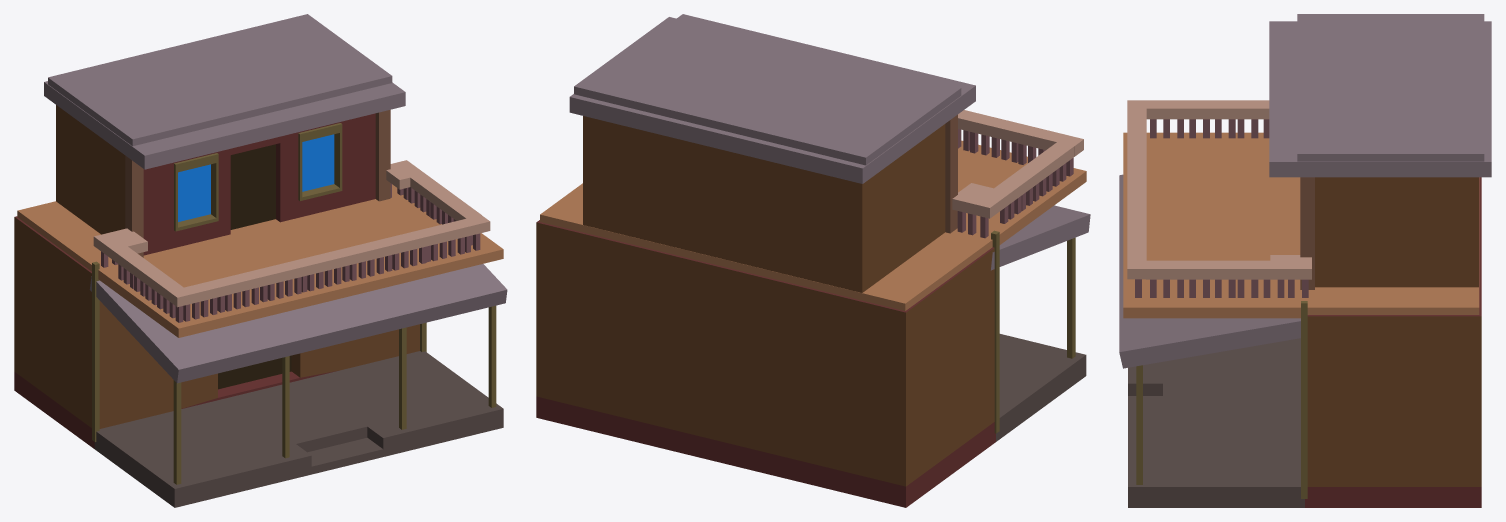
The model's file is west_home_1.glb.
The picture shows the model from 3 angles, left to right: view 1: azimuth 30°, elevation 25°; view 2: azimuth 150°, elevation 25°; view 3: azimuth 270°, elevation 25°; orthographic projection. The views are drawn at different scales.
Parts seen in each view (by area): view 1: Cube, Cube.007, Cube.010, Cube.005, Cube.096, Cube.006, Cube.025, Cube.009, Cube.008, Cube.099, Cube.001, Cube.004 (+2 smaller); view 2: Cube, Cube.007, Cube.010, Cube.006, Cube.096, Cube.025, Cube.005, Cube.099, Cube.001; view 3: Cube, Cube.010, Cube.007, Cube.096, Cube.006, Cube.005, Cube.025, Cube.100, Cube.004.
Boxes of the visible parts, x1=… form: Cube: x1=14, y1=105, x2=503, y2=507; Cube.007: x1=48, y1=14, x2=392, y2=146; Cube.010: x1=17, y1=184, x2=503, y2=337; Cube.005: x1=89, y1=264, x2=507, y2=383; Cube.096: x1=93, y1=160, x2=490, y2=307; Cube.006: x1=44, y1=81, x2=405, y2=169; Cube.025: x1=101, y1=183, x2=480, y2=322; Cube.009: x1=298, y1=123, x2=342, y2=200; Cube.008: x1=174, y1=153, x2=218, y2=231; Cube.099: x1=92, y1=261, x2=99, y2=441; Cube.001: x1=173, y1=380, x2=181, y2=484; Cube.004: x1=488, y1=305, x2=496, y2=407; Cube: x1=536, y1=114, x2=1086, y2=507; Cube.007: x1=574, y1=17, x2=961, y2=165; Cube.010: x1=540, y1=140, x2=1086, y2=310; Cube.006: x1=569, y1=14, x2=975, y2=183; Cube.096: x1=952, y1=110, x2=1083, y2=218; Cube.025: x1=957, y1=129, x2=1073, y2=238; Cube.005: x1=990, y1=205, x2=1090, y2=270; Cube.099: x1=991, y1=230, x2=999, y2=433; Cube.001: x1=1067, y1=237, x2=1075, y2=358; Cube: x1=1128, y1=177, x2=1481, y2=507; Cube.010: x1=1123, y1=132, x2=1479, y2=318; Cube.007: x1=1297, y1=14, x2=1484, y2=161; Cube.096: x1=1127, y1=100, x2=1311, y2=279; Cube.006: x1=1269, y1=21, x2=1491, y2=177; Cube.005: x1=1119, y1=174, x2=1300, y2=368; Cube.025: x1=1135, y1=119, x2=1308, y2=297; Cube.100: x1=1301, y1=301, x2=1307, y2=498; Cube.004: x1=1136, y1=365, x2=1142, y2=484.
Size of the model in its own units: 4.36 by 3.82 by 3.85.
